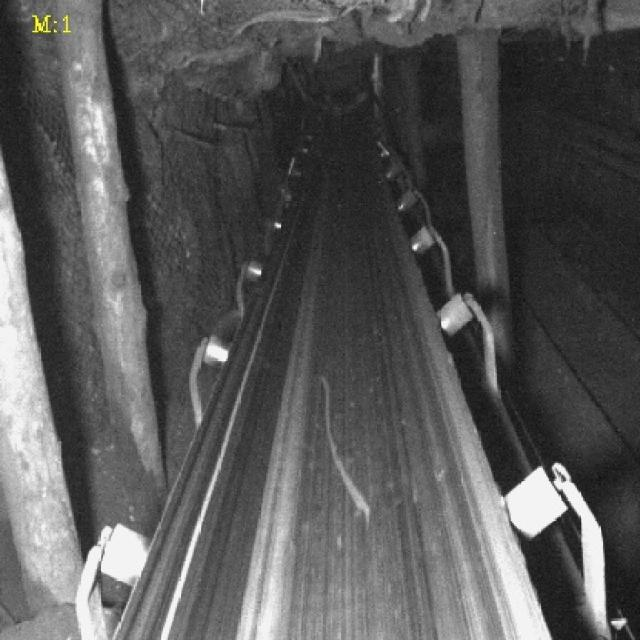bolt: (315, 371, 374, 522)
